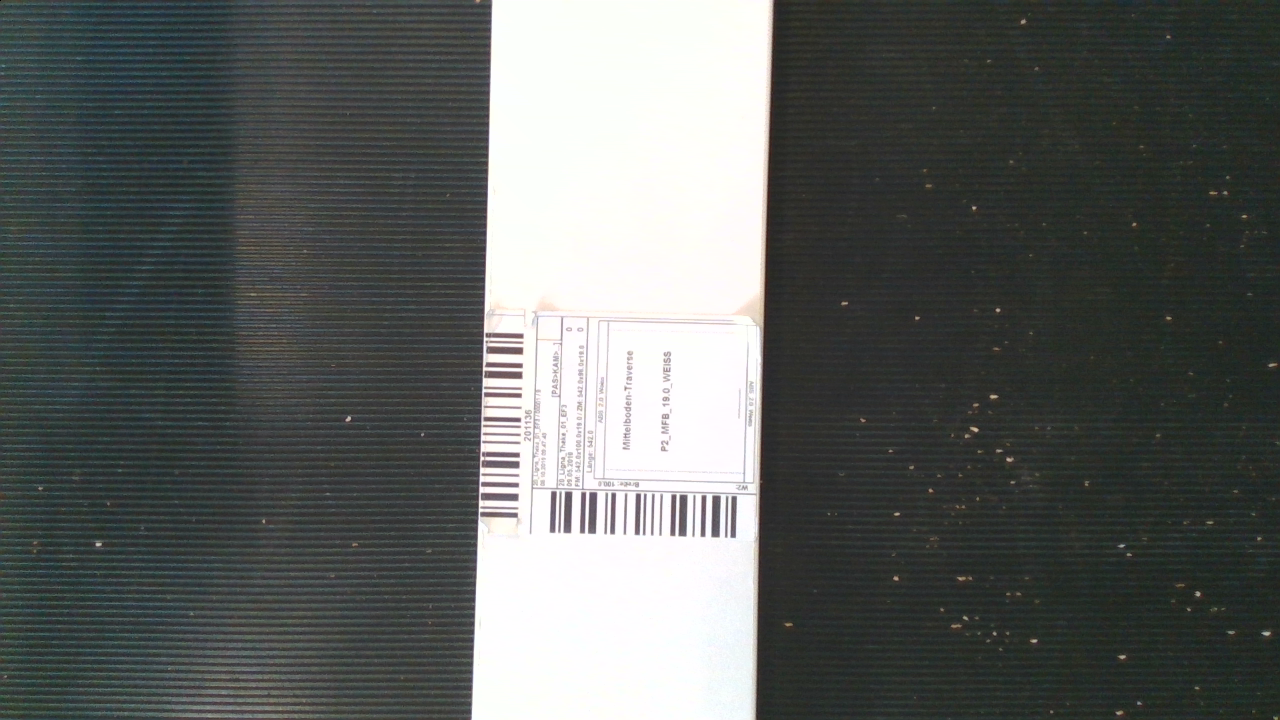barcode: (478, 300, 767, 548)
